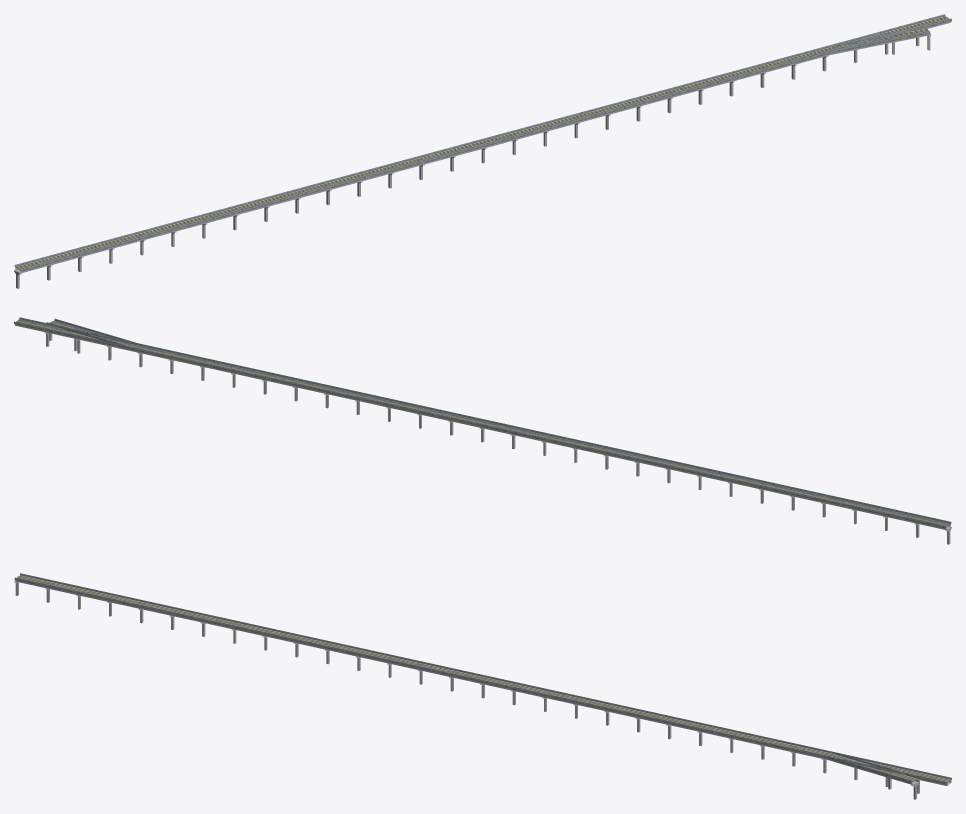
The picture shows the model from 3 angles, top to bottom: view 1: azimuth 30°, elevation 25°; view 2: azimuth 150°, elevation 25°; view 3: azimuth 330°, elevation 25°; orthographic projection. The views are drawn at different scales.
Parts seen in each view (by area): view 1: HN1266___Yen_Nghia_Metro_Station___1; view 2: HN1266___Yen_Nghia_Metro_Station___1; view 3: HN1266___Yen_Nghia_Metro_Station___1.
Boxes of the visible parts, x1,y1,x2,y2 form: HN1266___Yen_Nghia_Metro_Station___1: (14, 14, 951, 288); HN1266___Yen_Nghia_Metro_Station___1: (14, 317, 951, 544); HN1266___Yen_Nghia_Metro_Station___1: (14, 573, 951, 799).
Bounding box in the file's own units: 722 × 15.17 × 39.99.
Materials: 1 (1 with a texture image).
